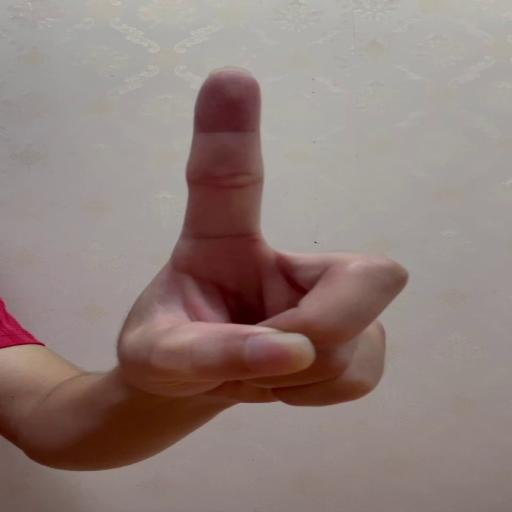point: (154, 65, 412, 408)
